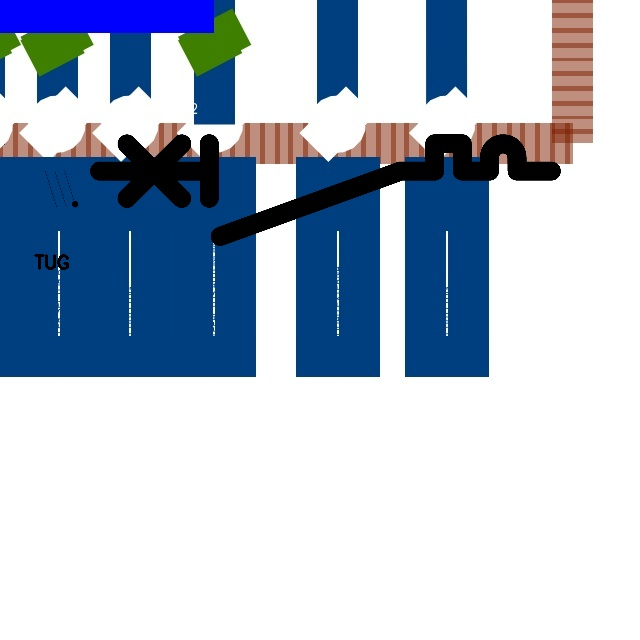interruptor_termomagnetico: (87, 132, 562, 248)
